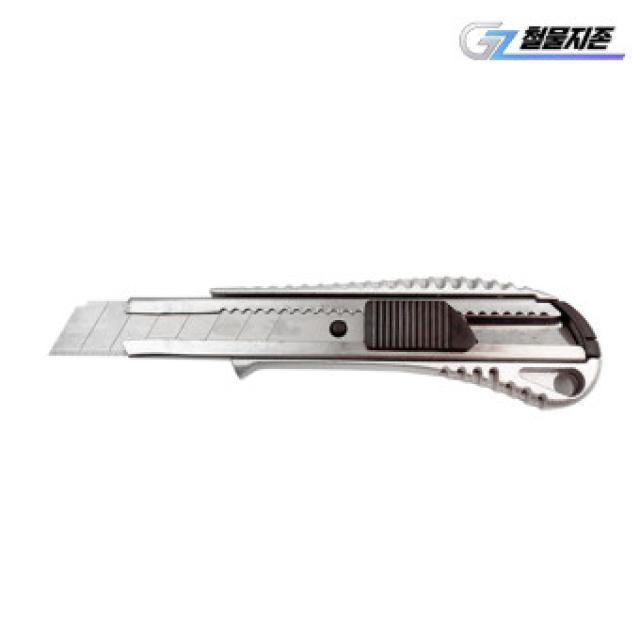cutter: (34, 264, 616, 428)
